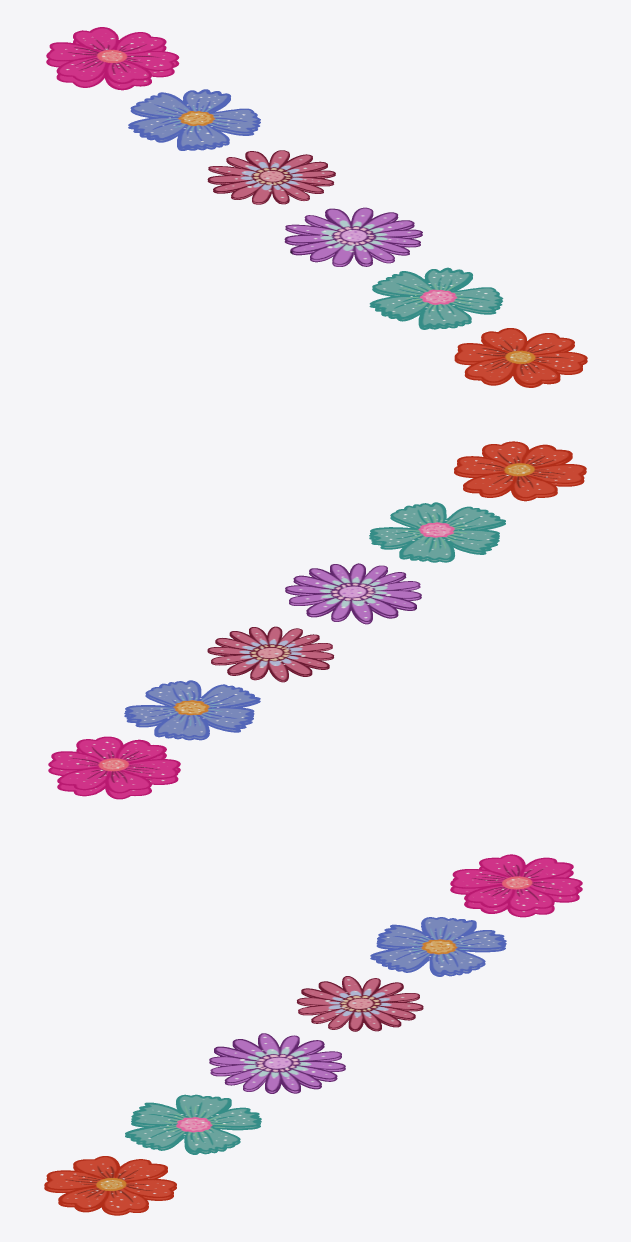
File: Ground_2.fbx
3 views of the same model, one above another, from view 1: azimuth 30°, elevation 25°; view 2: azimuth 150°, elevation 25°; view 3: azimuth 330°, elevation 25° (orthographic).
Visible parts, largest first — view 1: Flower_5, Flower_2, Flower_4, Flower_6, Flower_3, Flower_1; view 2: Flower_5, Flower_2, Flower_6, Flower_4, Flower_3, Flower_1; view 3: Flower_5, Flower_2, Flower_6, Flower_4, Flower_3, Flower_1.
Boxes of the visible parts, x1,y1,x2,y2 form: Flower_5: (46,27,179,90); Flower_2: (284,207,422,266); Flower_4: (369,267,503,329); Flower_6: (454,328,587,387); Flower_3: (128,89,260,150); Flower_1: (207,150,335,204); Flower_5: (48,736,180,799); Flower_2: (285,563,421,624); Flower_6: (454,441,586,501); Flower_4: (369,502,505,562); Flower_3: (124,680,260,740); Flower_1: (207,626,333,682); Flower_5: (450,854,582,917); Flower_2: (209,1033,345,1093); Flower_6: (44,1156,176,1215); Flower_4: (125,1094,261,1154); Flower_3: (370,917,506,976); Flower_1: (297,976,423,1031).
Size of the model in its own units: 200 by 9.35 by 1331.
